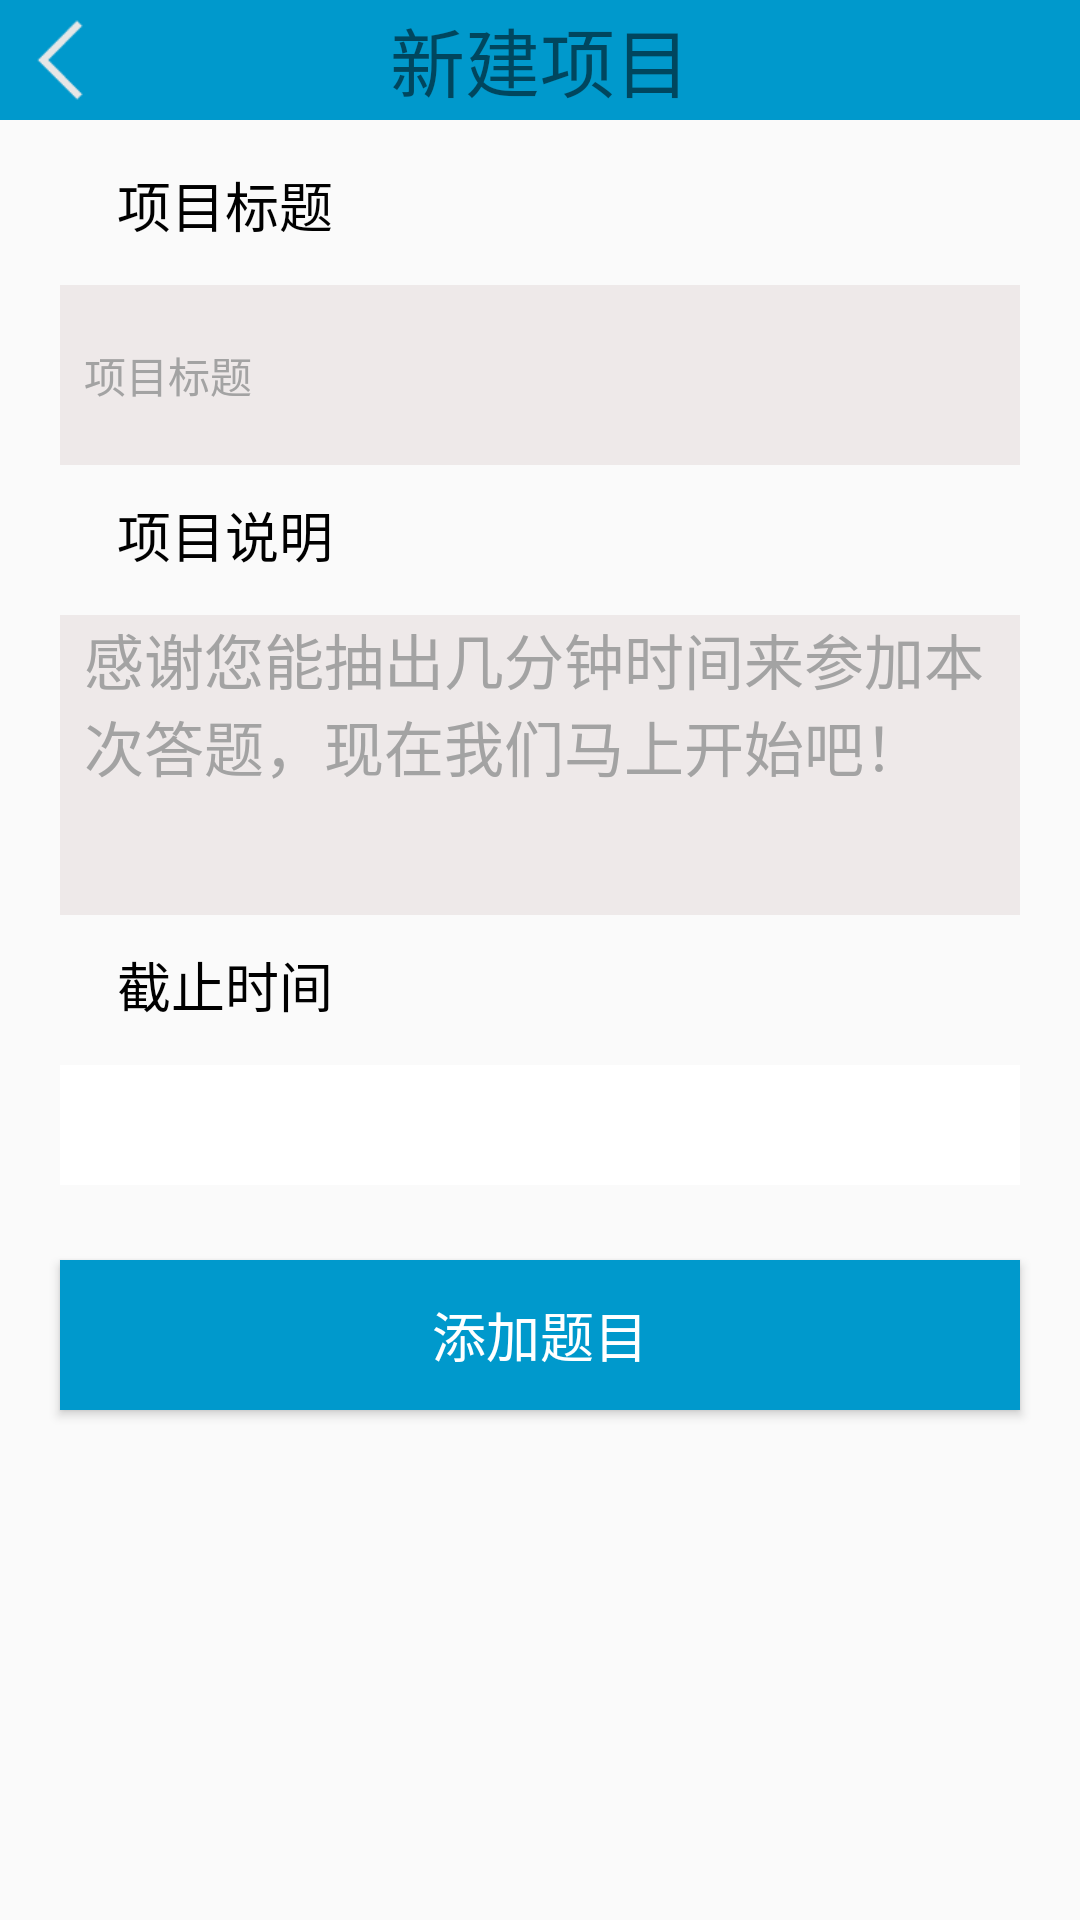

Icons on this 1080x1920 Android screen, each with the point to tap as [x,y]:
back: [60,60]
